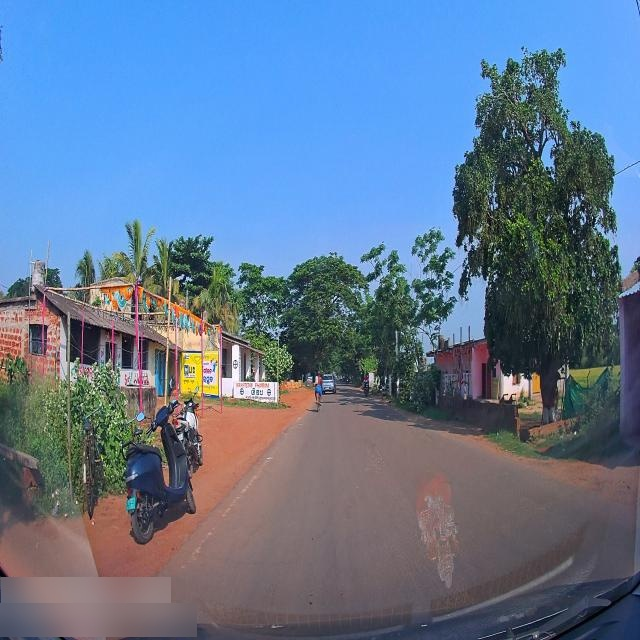pothole: (361, 442, 380, 461), (364, 462, 385, 476), (424, 433, 434, 442)
